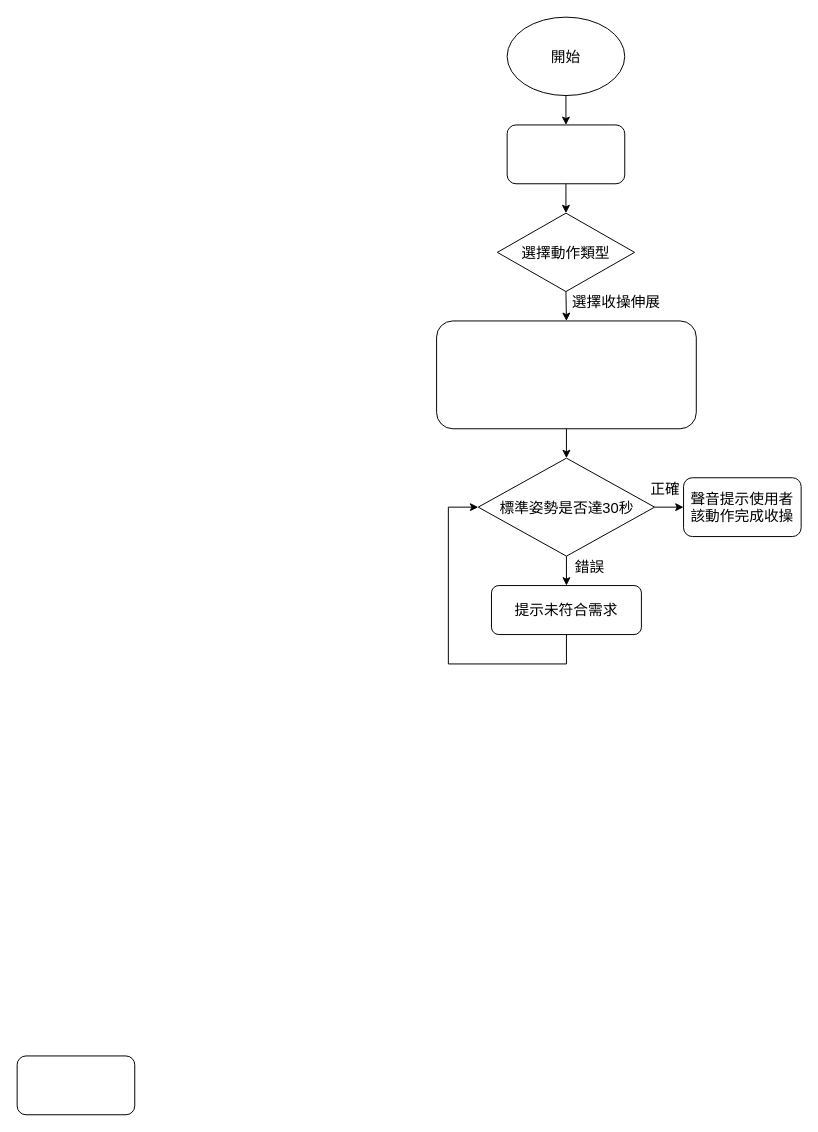
This 818x1132 diagram has some shape labels left out. Each missing label, with the centre of its shape:
1.開啟前置鏡頭 2.載入伸展動作清單 3.提示開始 4.開始收操 5.開始計時: point (566, 374)
使用者登入: point (565, 154)
